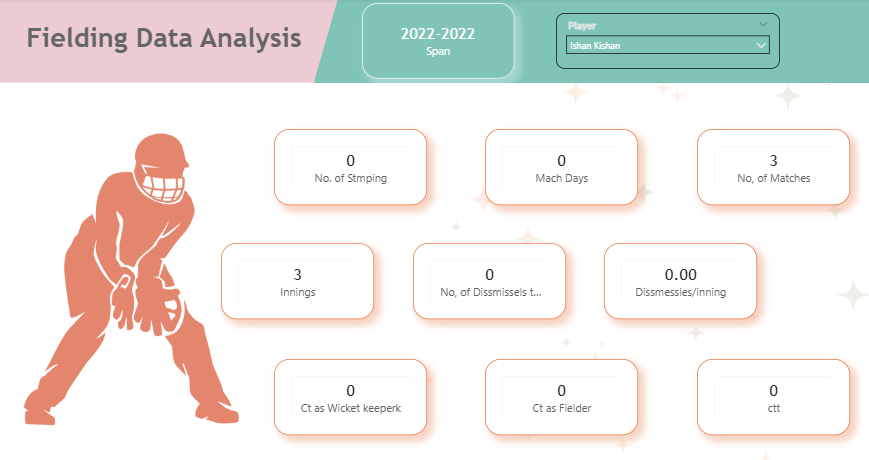

The page's visual inventory and layout, read from the dashboard file:
{"tool":"powerbi","page":{"name":"Fielding","canvas":[1280,720],"ordinal":3},"visuals":[{"type":"shape","box":[0,1.5,705.3,123.4],"z":0},{"type":"shape","box":[462.9,0,817,122],"z":1000},{"type":"shape","box":[1171.1,0,108.7,122],"z":2000},{"type":"shape","box":[462.5,0,817.5,125.2],"z":3000},{"type":"shape","box":[1171.3,0,108.7,125.2],"z":4000},{"type":"slicer","fields":{"Values":["Fielding.Player"]},"box":[818.4,22,329.1,82.3],"z":5000},{"type":"cardVisual","fields":{"Data":["Min(Fielding.Span)"]},"box":[534,6.9,224.3,111.5],"z":6000},{"type":"cardVisual","fields":{"Data":["Min(Fielding.MD)"]},"box":[714.9,192.5,224.8,111.7],"z":7000},{"type":"cardVisual","fields":{"Data":["Sum(Fielding.St)"]},"box":[404.1,192.5,224.8,111.7],"z":8000},{"type":"cardVisual","fields":{"Data":["Sum(Fielding.Mat)"]},"box":[1025.6,192.5,224.8,111.7],"z":9000},{"type":"cardVisual","fields":{"Data":["Sum(Fielding.Inns)"]},"box":[326.2,360,224.8,111.7],"z":10000},{"type":"cardVisual","fields":{"Data":["Sum(Fielding.Dis)"]},"box":[607.6,360,224.8,111.7],"z":11000},{"type":"cardVisual","fields":{"Data":["Sum(Fielding.D/I)"]},"box":[889,360,224.8,111.7],"z":12000},{"type":"cardVisual","fields":{"Data":["Sum(Fielding.Ct Wk)"]},"box":[404.1,530.4,224.8,111.7],"z":13000},{"type":"cardVisual","fields":{"Data":["Sum(Fielding.Ct Fi)"]},"box":[714.1,530.4,224.8,111.7],"z":14000},{"type":"cardVisual","fields":{"Data":["Sum(Fielding.Ct)"]},"box":[1025.6,530.4,224.8,111.7],"z":15000}]}

Visuals, with their boxes on the page's 1280x720 design canvas (x1, y1, x2, y2). These are canvas units, not pixel positions in the 869x460 screenshot, which may show the page scaled, cropped or inside an application window:
shape: x1=0 y1=2 x2=705 y2=125
shape: x1=463 y1=0 x2=1280 y2=122
shape: x1=1171 y1=0 x2=1280 y2=122
shape: x1=462 y1=0 x2=1280 y2=125
shape: x1=1171 y1=0 x2=1280 y2=125
slicer - Fielding.Player: x1=818 y1=22 x2=1148 y2=104
cardVisual - Min(Fielding.Span): x1=534 y1=7 x2=758 y2=118
cardVisual - Min(Fielding.MD): x1=715 y1=192 x2=940 y2=304
cardVisual - Sum(Fielding.St): x1=404 y1=192 x2=629 y2=304
cardVisual - Sum(Fielding.Mat): x1=1026 y1=192 x2=1250 y2=304
cardVisual - Sum(Fielding.Inns): x1=326 y1=360 x2=551 y2=472
cardVisual - Sum(Fielding.Dis): x1=608 y1=360 x2=832 y2=472
cardVisual - Sum(Fielding.D/I): x1=889 y1=360 x2=1114 y2=472
cardVisual - Sum(Fielding.Ct Wk): x1=404 y1=530 x2=629 y2=642
cardVisual - Sum(Fielding.Ct Fi): x1=714 y1=530 x2=939 y2=642
cardVisual - Sum(Fielding.Ct): x1=1026 y1=530 x2=1250 y2=642
